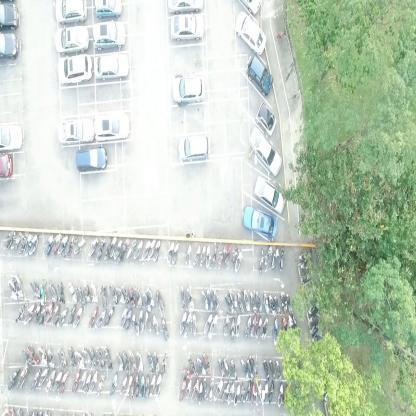car: (246, 126, 282, 176), (233, 11, 267, 57), (252, 174, 286, 215), (245, 53, 274, 97), (241, 205, 278, 239), (58, 53, 92, 86), (93, 112, 130, 142), (169, 13, 205, 42), (55, 24, 88, 55), (93, 55, 130, 81), (92, 23, 126, 51), (57, 119, 94, 144), (171, 77, 205, 104), (177, 135, 210, 162), (252, 101, 276, 136), (75, 147, 108, 172), (55, 0, 88, 23), (0, 123, 24, 150), (0, 2, 20, 32), (94, 0, 123, 19), (0, 32, 19, 59), (167, 0, 204, 13), (238, 0, 263, 18), (0, 152, 14, 177)
